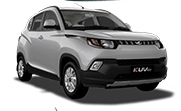car: (15, 6, 169, 101)
